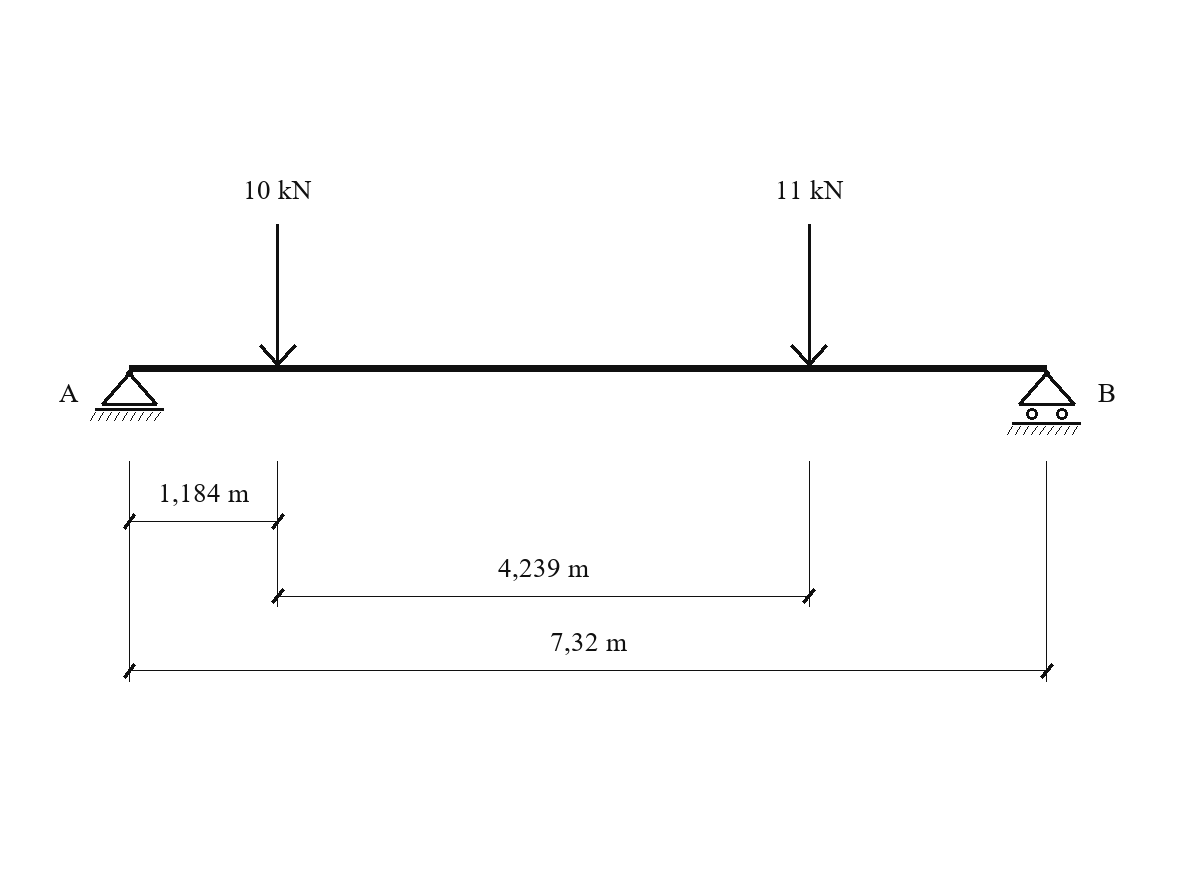pin_support: (90, 370, 164, 421)
point_load: (259, 224, 297, 366), (790, 224, 828, 366)
roller_support: (1007, 370, 1081, 435)
